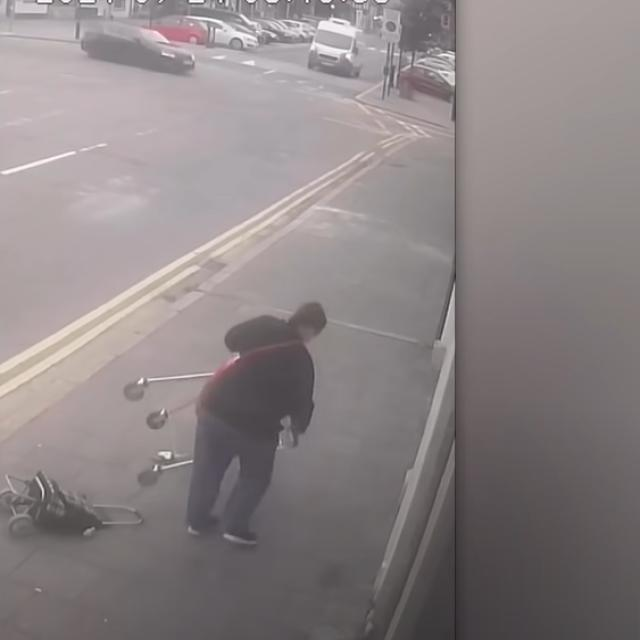person: (184, 300, 332, 548)
